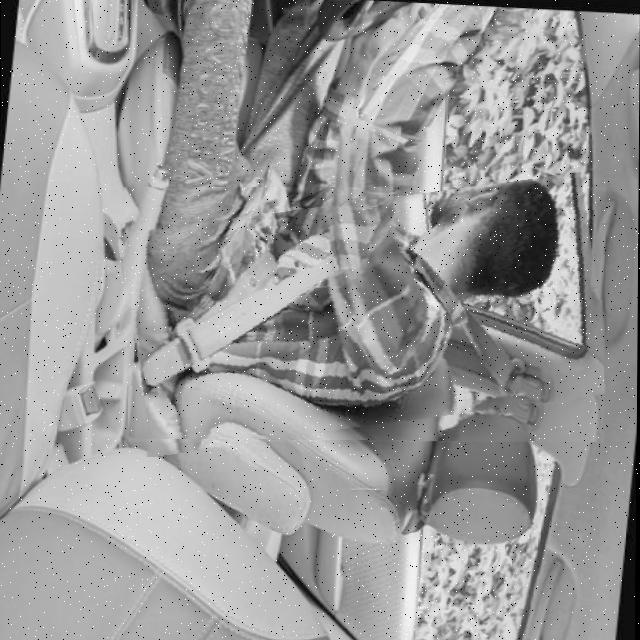seatbelt: (122, 187, 605, 442)
